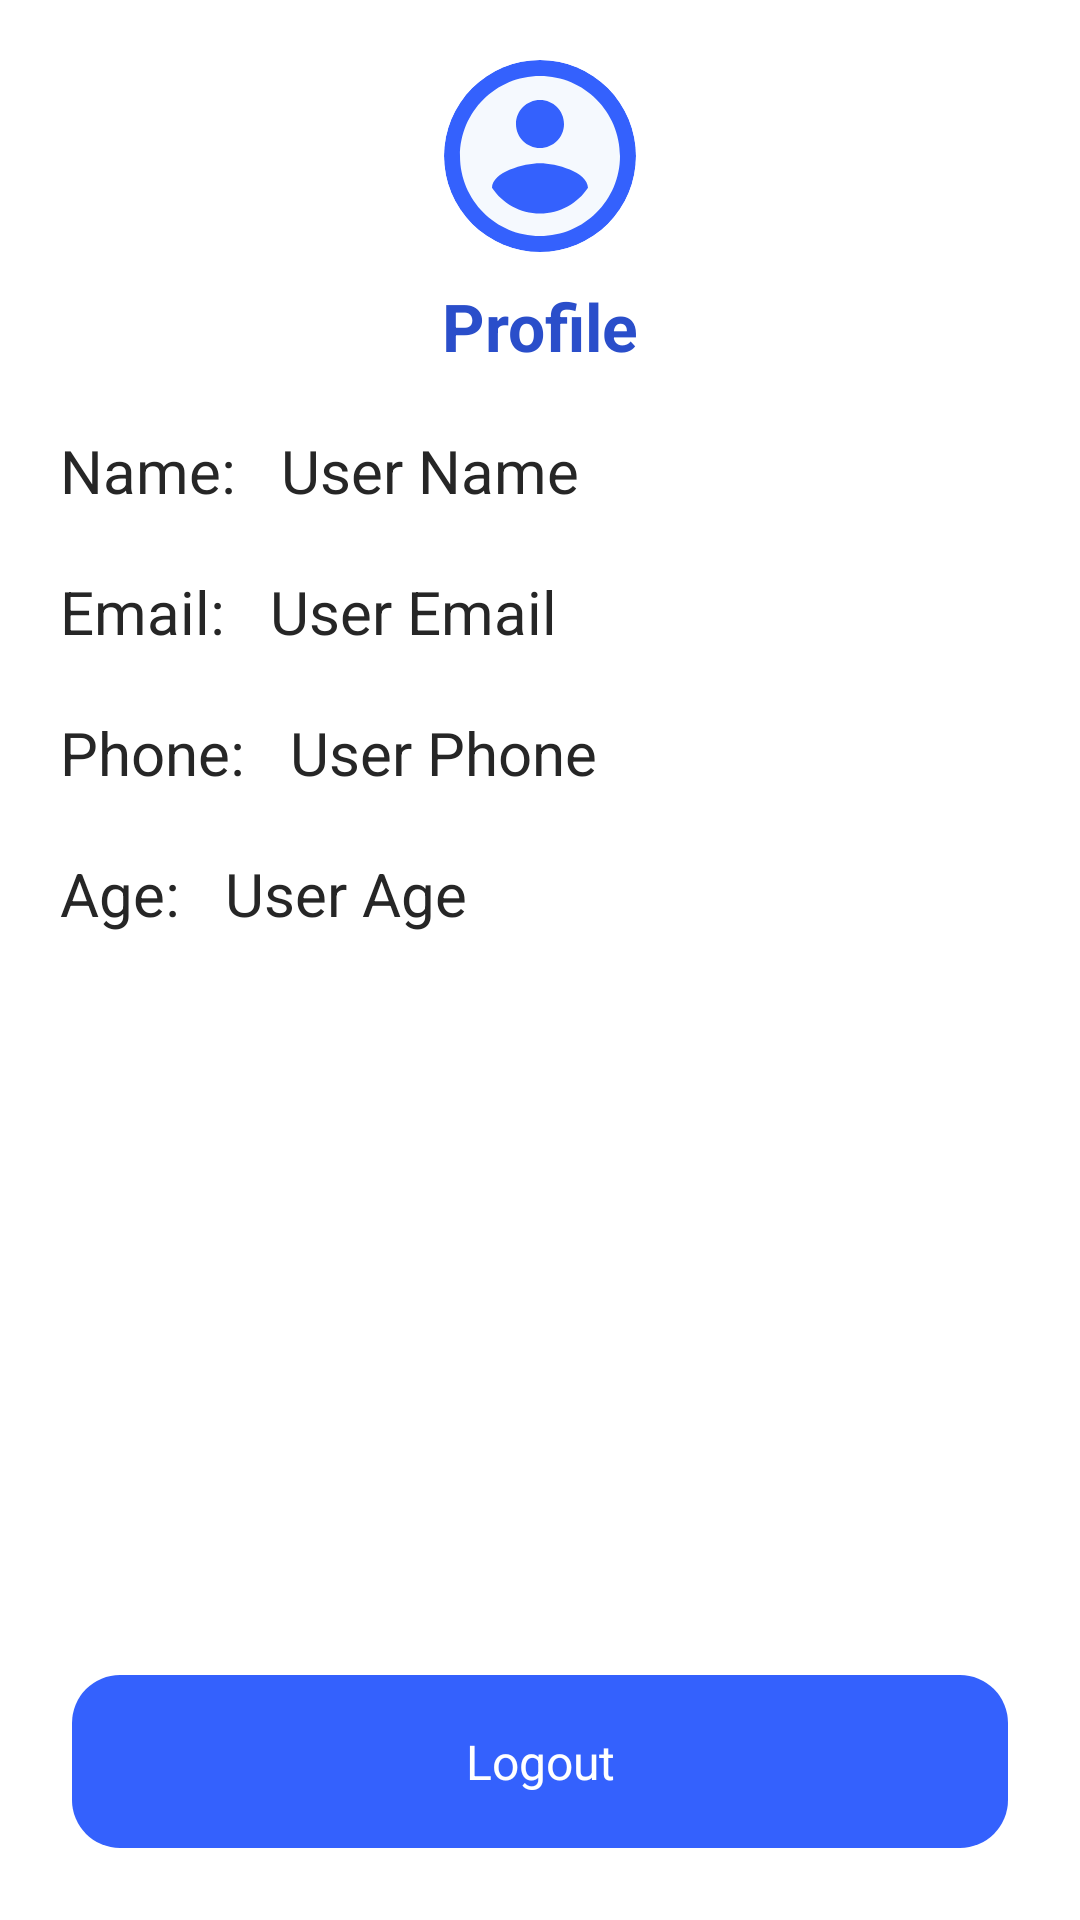

Screen size 1080px×1920px. Icon name, then its center in pixels as (x,y):
account circle: (540,156)
